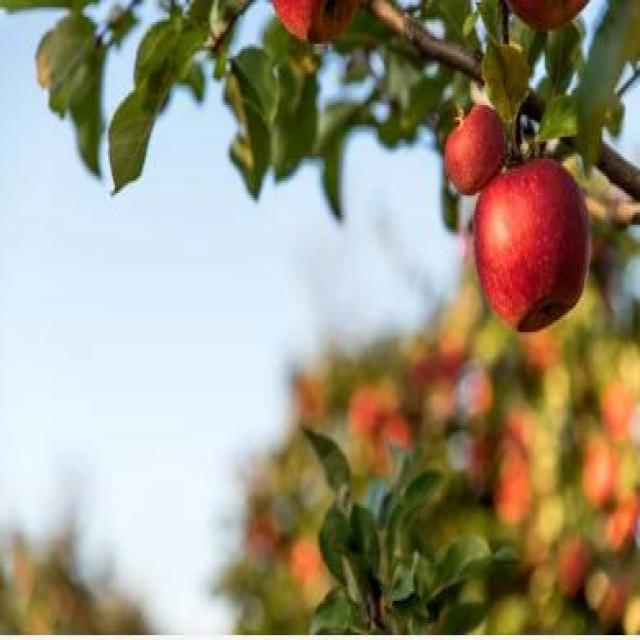fruit: (473, 158, 591, 330), (443, 104, 508, 195), (270, 0, 362, 45), (502, 0, 594, 32)
